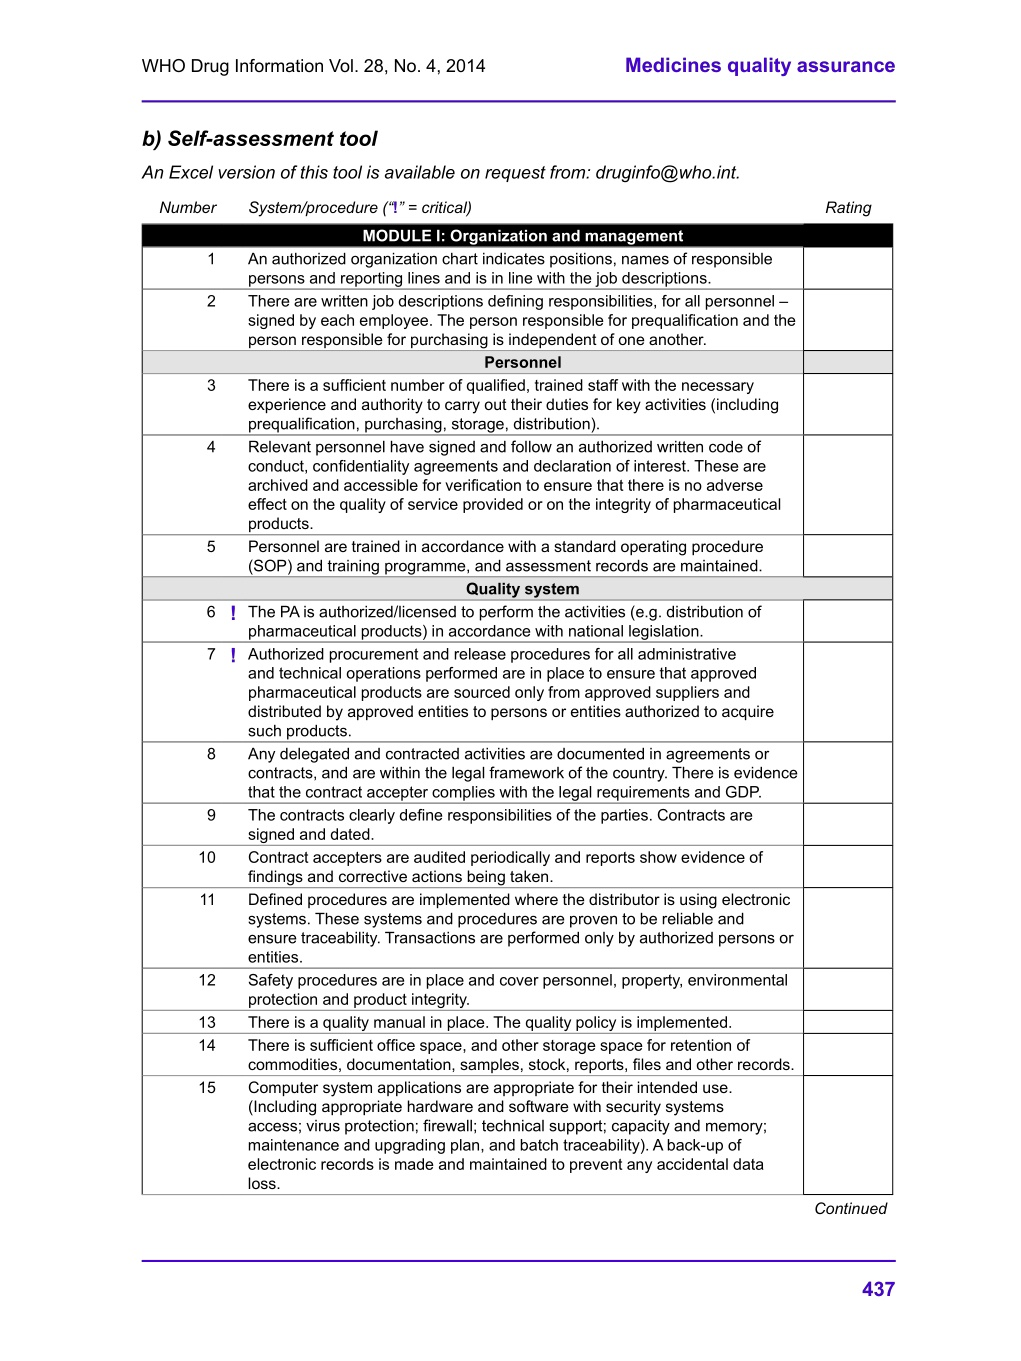partial_lined_merged_cells: (139, 222, 896, 1199)
